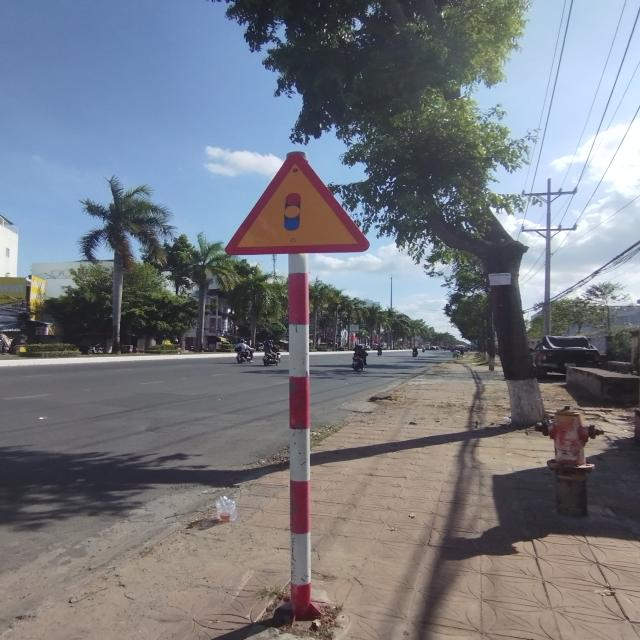Duong_Co_Go_Giam_Toc: (224, 153, 371, 256)
